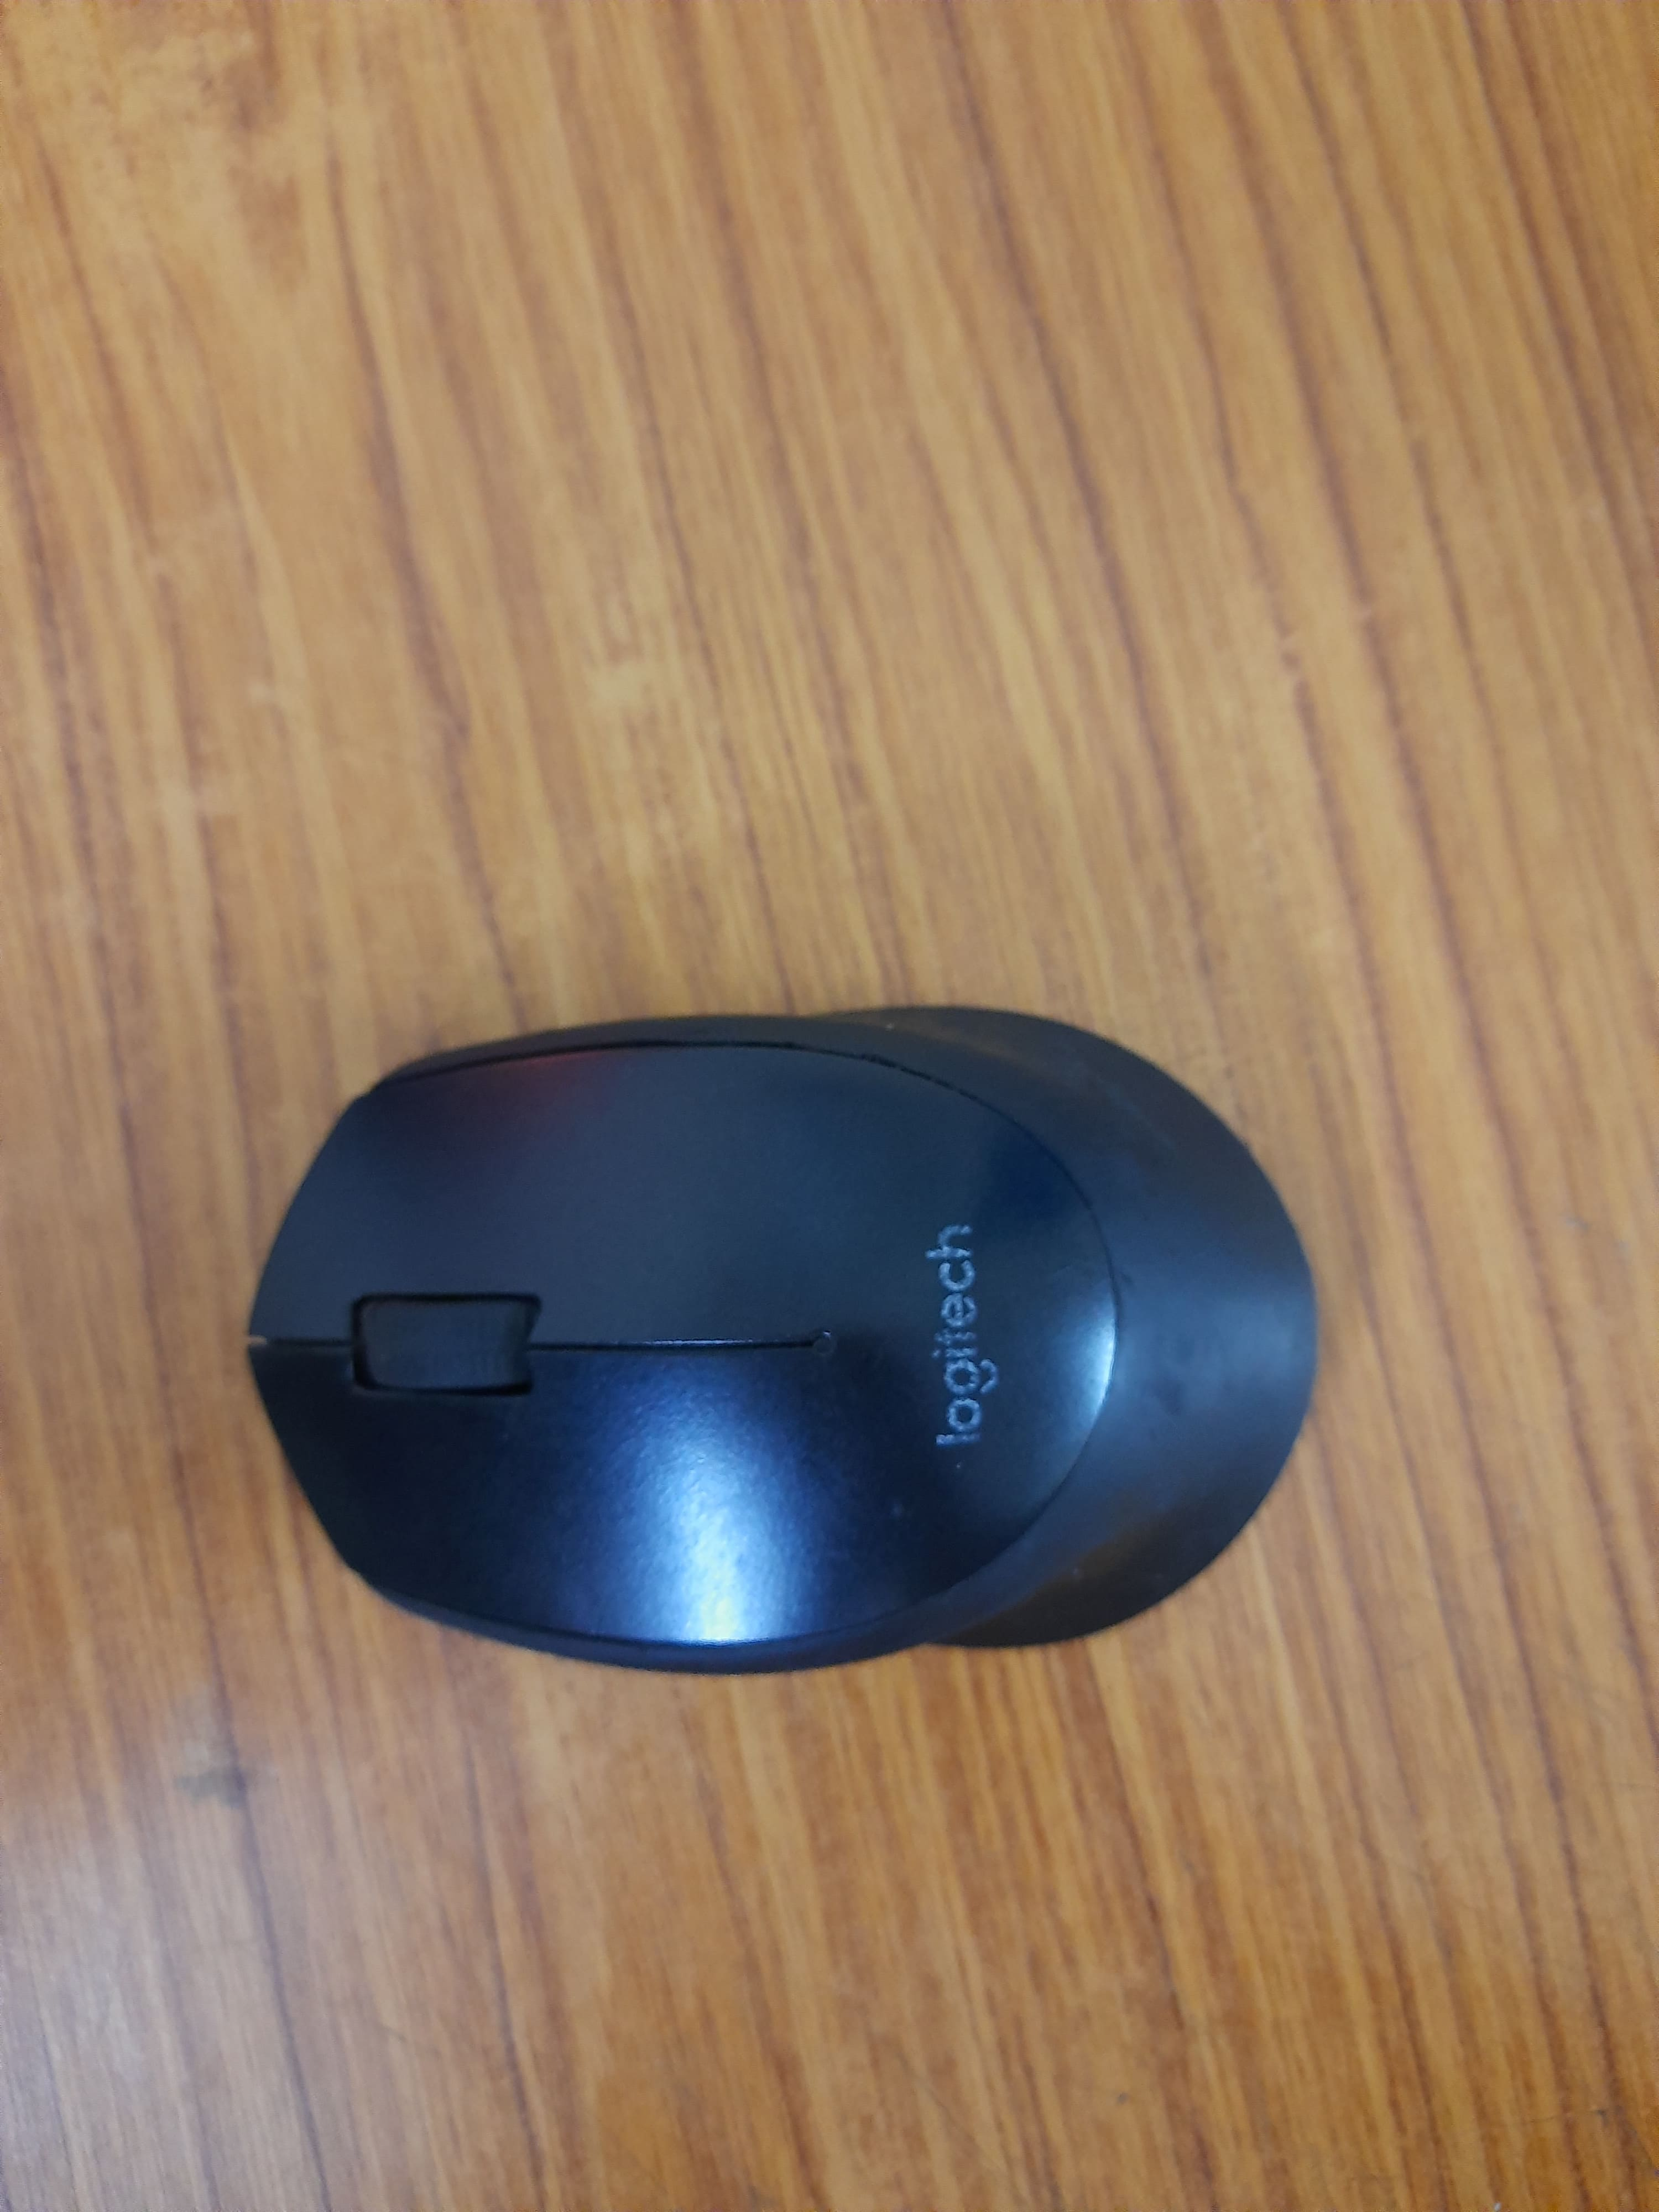Vikash's Mouse: (242, 993, 1293, 1672)
